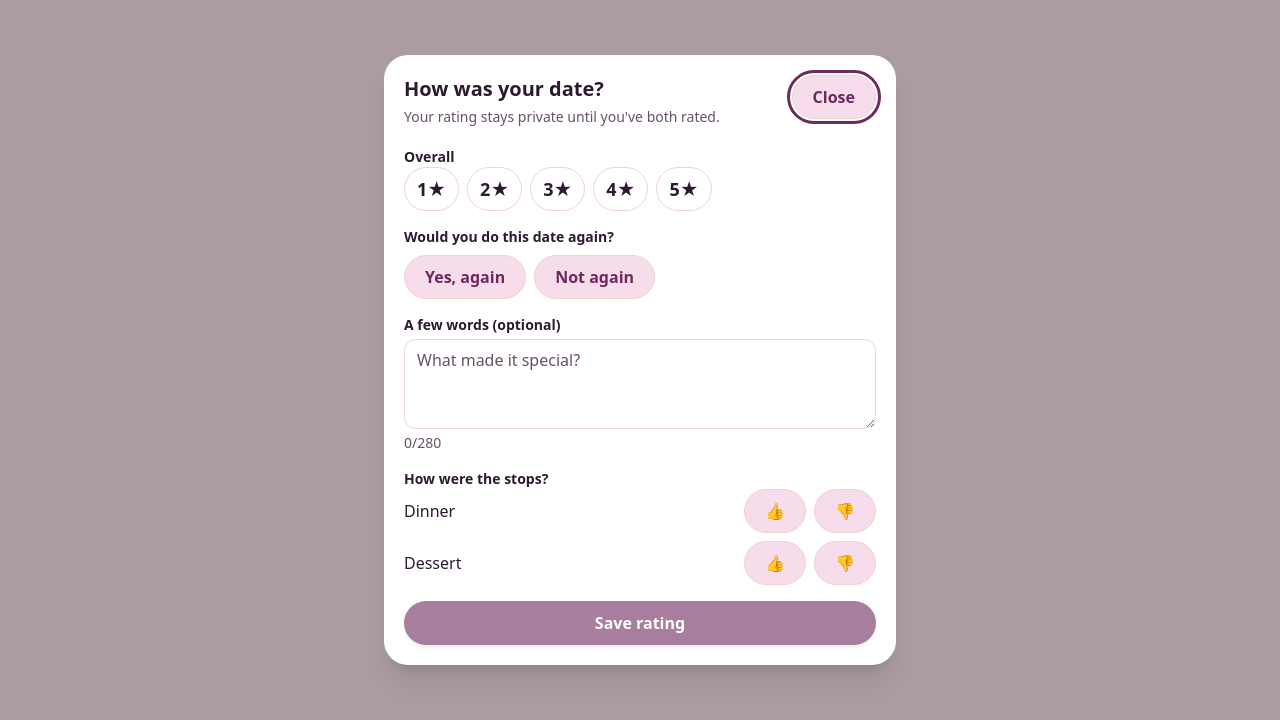
Test: RatingSheet › needs stars and a would-again answer before it can be saved
Expected: the button "Save rating" is disabled, [404,601,876,645]
What coordinates should you click on to do the following:
click the radio button named "5 stars"
I would click on:
 (684, 189)
Its box is [656,167,712,211].
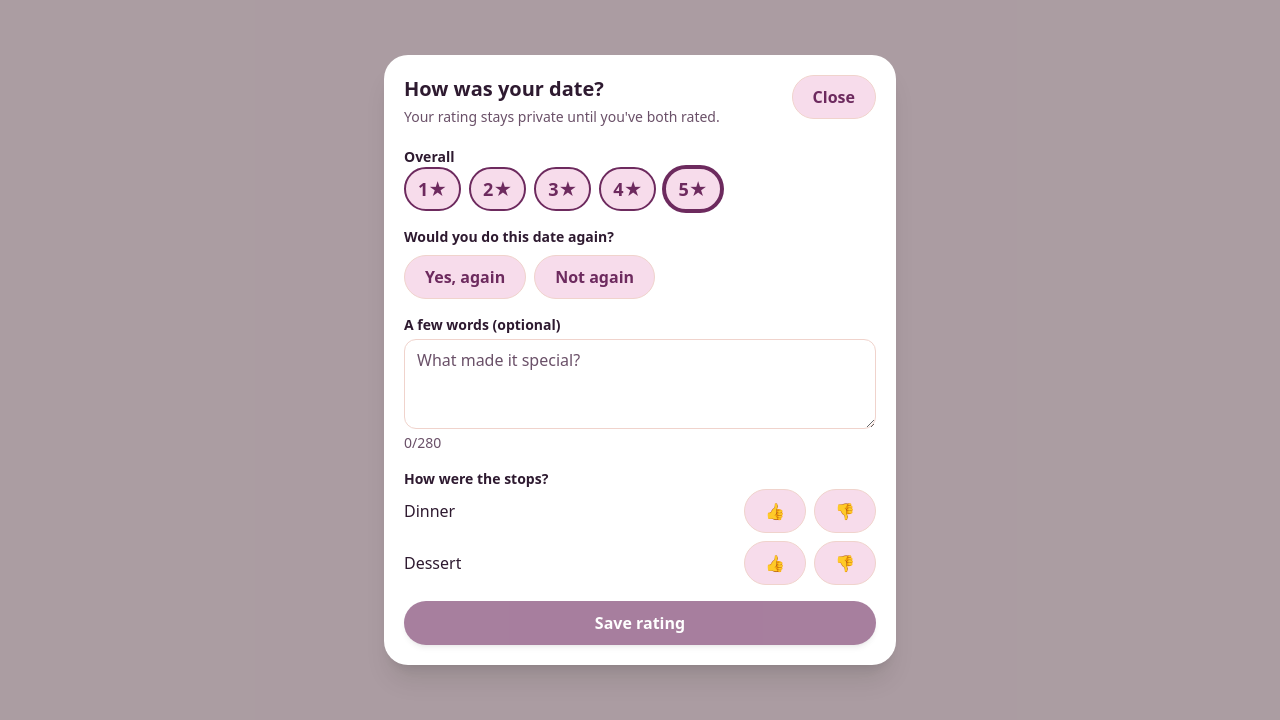
Expected: the button "Save rating" is disabled, [404,601,876,645]
What coordinates should you click on to do the following:
click the button "Yes, again"
I would click on:
 (465, 277)
Its box is [404,255,526,299].
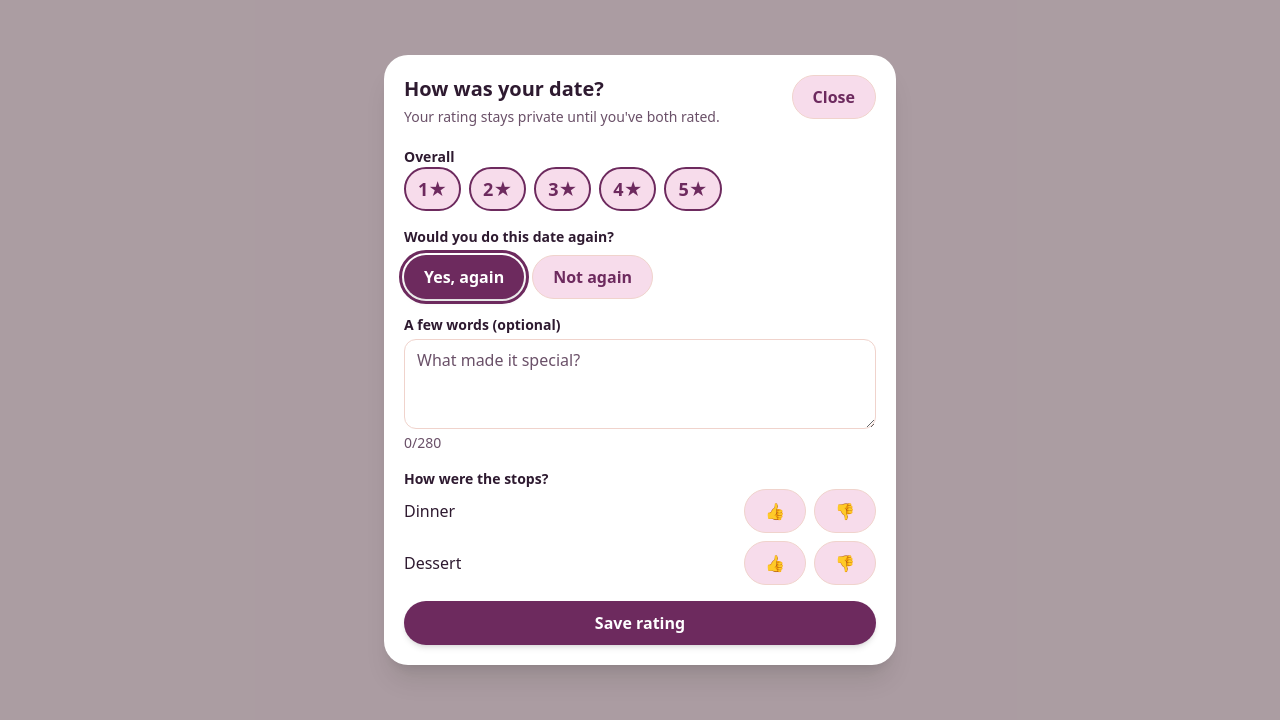
Result: the button "Save rating" is enabled at [404,601,876,645]
